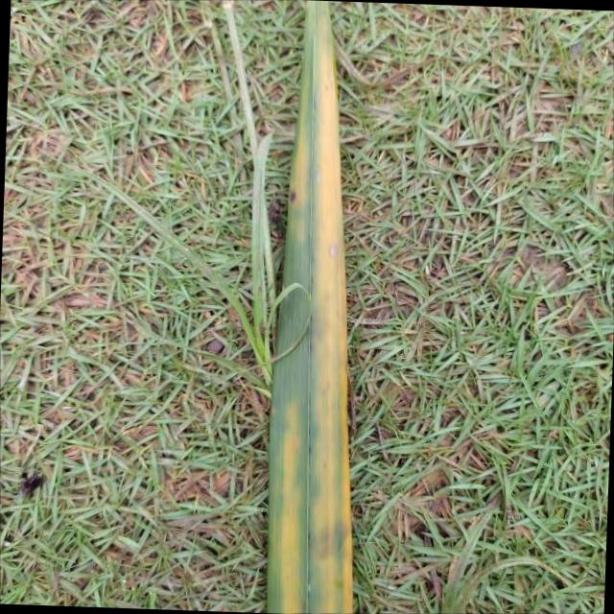Megnesium: (266, 0, 354, 614)
